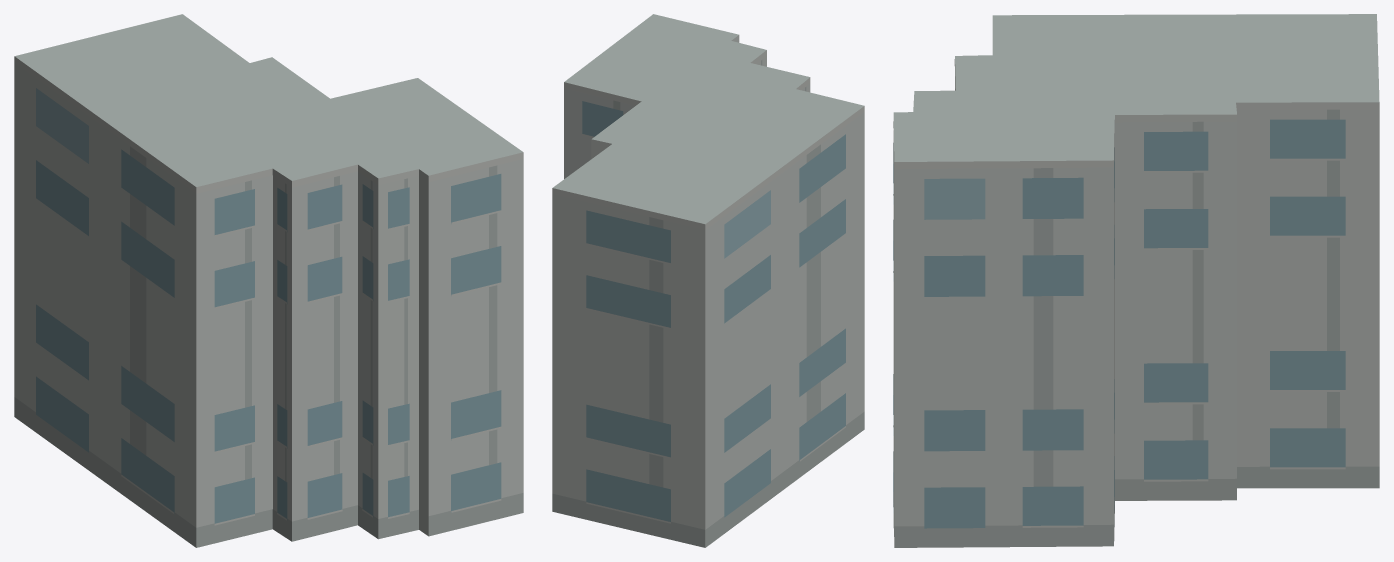
File: survey-upis-32822441.glb
3 views of the same model, side by side, from view 1: azimuth 30°, elevation 25°; view 2: azimuth 150°, elevation 25°; view 3: azimuth 270°, elevation 25° (orthographic). The views are drawn at different scales.
Parts seen in each view (by area): view 1: survey-upis-32822441.tmp; view 2: survey-upis-32822441.tmp; view 3: survey-upis-32822441.tmp.
Part boxes in pixels (left/top/right/bottom): survey-upis-32822441.tmp: left=14, top=14, right=523, bottom=547; survey-upis-32822441.tmp: left=552, top=14, right=864, bottom=547; survey-upis-32822441.tmp: left=893, top=14, right=1379, bottom=547.
Bounding box in the file's own units: 10.79 × 13.1 × 14.97.
